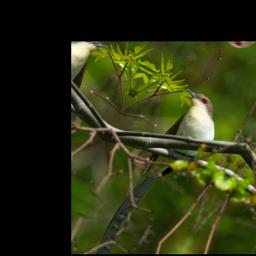Cuckoo: (109, 85, 234, 241)
